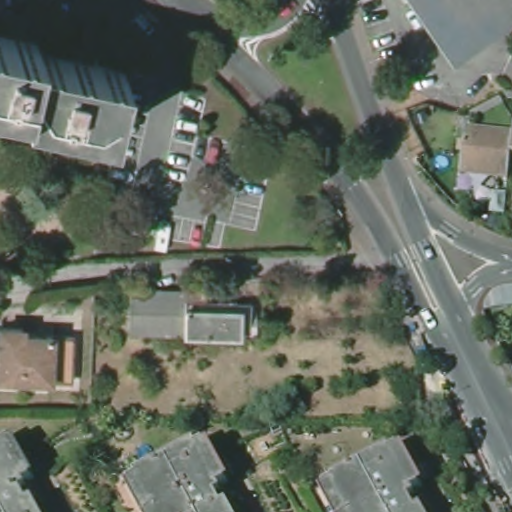pool: (431, 152, 450, 172)
